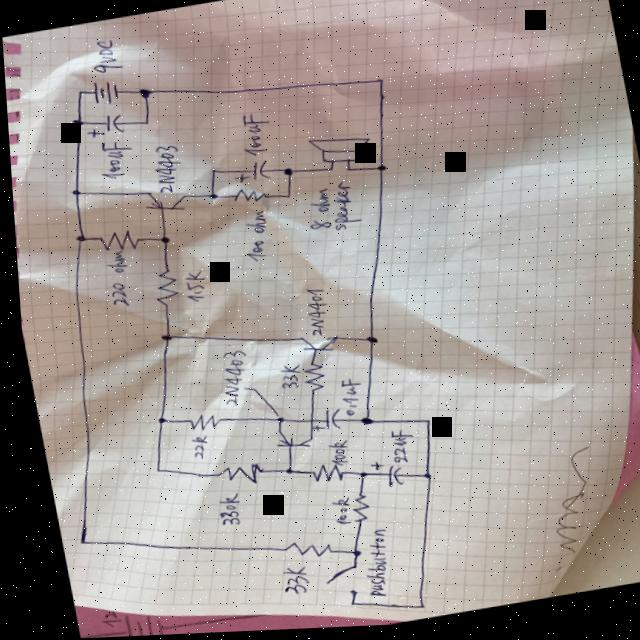capacitor: (361, 460, 398, 494), (227, 160, 270, 189), (81, 114, 122, 141), (301, 409, 338, 438)
crossover: (299, 420, 308, 427)
junction: (134, 88, 150, 101), (152, 334, 167, 345), (274, 468, 287, 480), (147, 417, 160, 428), (352, 420, 366, 430), (358, 339, 372, 349), (339, 552, 353, 562), (277, 170, 290, 180), (153, 237, 166, 247), (202, 194, 215, 204), (69, 235, 82, 245), (67, 538, 79, 548), (337, 602, 349, 612), (372, 167, 383, 177), (66, 190, 78, 199), (413, 476, 425, 485), (348, 474, 360, 483), (266, 418, 278, 427), (69, 119, 80, 128), (144, 468, 156, 476), (278, 196, 289, 203), (321, 170, 332, 177), (73, 90, 82, 98), (204, 170, 214, 177), (372, 81, 382, 88), (138, 121, 147, 128), (340, 170, 349, 177), (415, 422, 424, 429), (407, 607, 416, 614)
resistor: (206, 462, 259, 494), (272, 540, 325, 566), (92, 228, 139, 257), (143, 270, 177, 310), (291, 362, 322, 397), (300, 465, 337, 490), (338, 496, 364, 529), (179, 413, 216, 436), (226, 188, 263, 209)
source: (86, 79, 118, 109)
switch: (311, 565, 351, 603)
text: (346, 529, 392, 603), (206, 350, 248, 410), (232, 210, 275, 268), (144, 143, 183, 197), (96, 250, 130, 311), (319, 184, 355, 237), (233, 114, 272, 161), (92, 141, 134, 184), (85, 35, 125, 79), (295, 288, 327, 340), (267, 565, 305, 604), (300, 190, 331, 234), (327, 379, 359, 421), (377, 431, 409, 470), (205, 495, 237, 531), (175, 270, 204, 306), (269, 366, 297, 395), (317, 443, 344, 472), (179, 436, 205, 464), (322, 501, 344, 530)
transistor: (137, 189, 185, 219), (291, 334, 334, 360), (265, 431, 306, 456)
